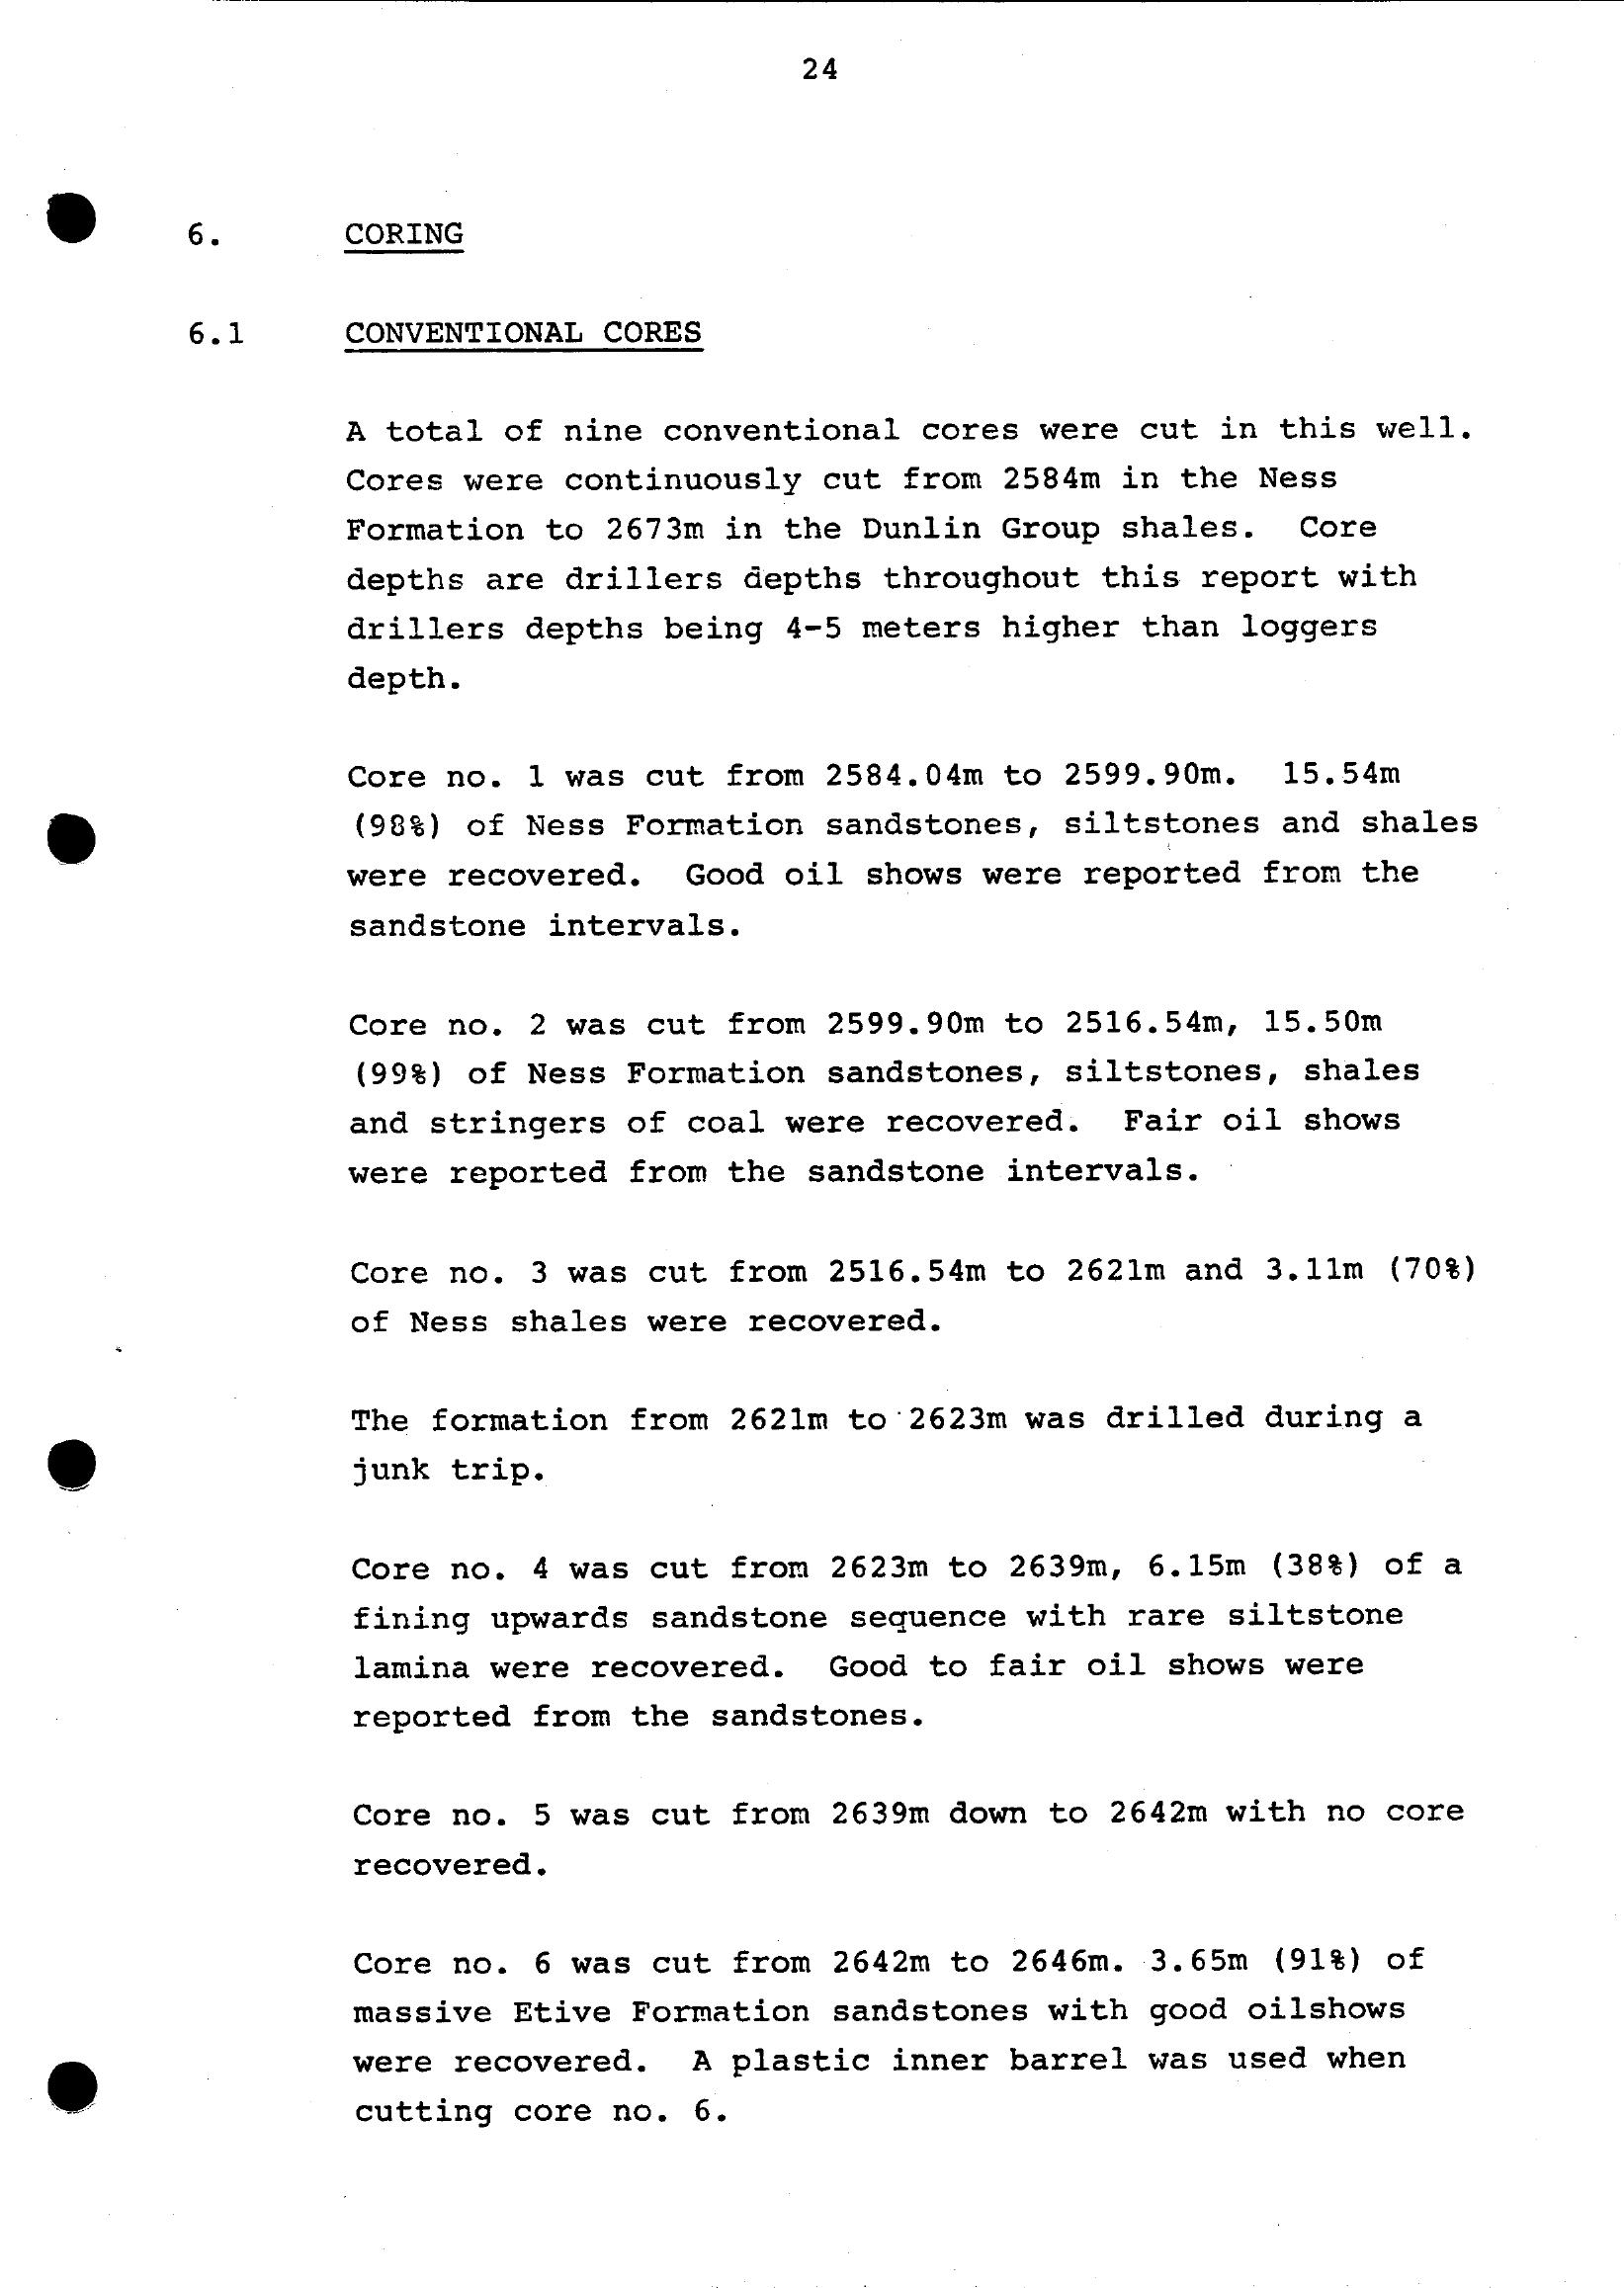text: (301, 155, 1513, 2172)
